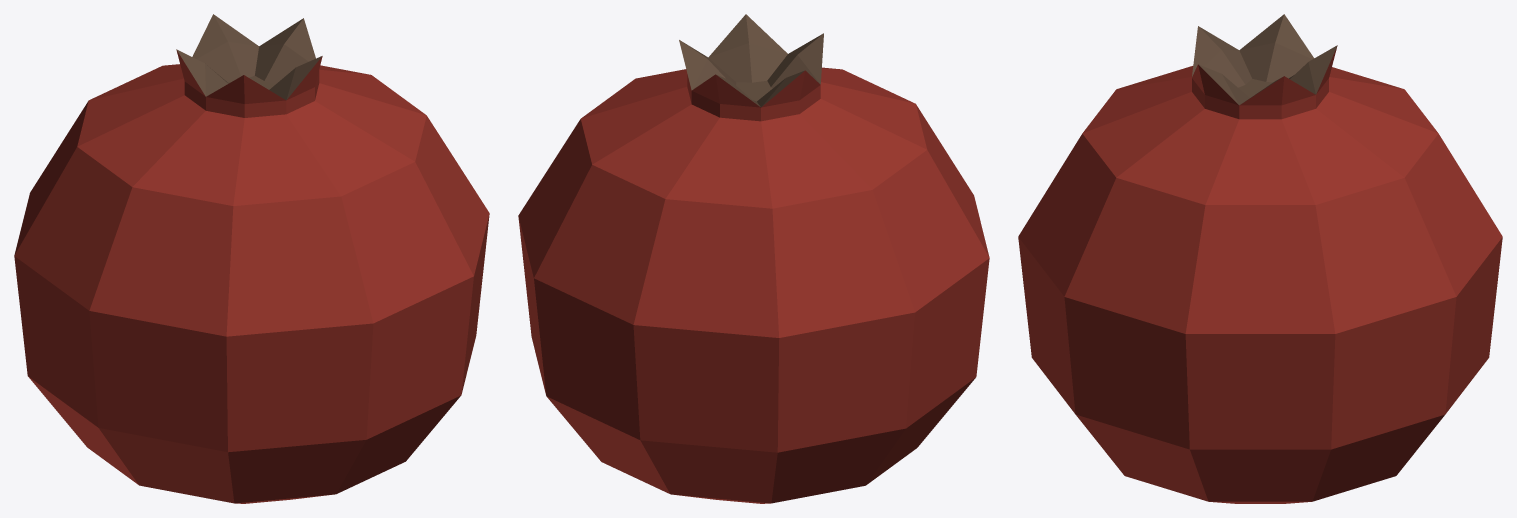
File: SM_Envr_Nature_Farm_Fruit_Pomegranate.fbx
3 renders of one model, left to right at view 1: azimuth 30°, elevation 25°; view 2: azimuth 150°, elevation 25°; view 3: azimuth 270°, elevation 25°, orthographic.
Visible parts, largest first — view 1: SM_Envr_Nature_Farm_Fruit_Pomegranate; view 2: SM_Envr_Nature_Farm_Fruit_Pomegranate; view 3: SM_Envr_Nature_Farm_Fruit_Pomegranate.
Boxes of the visible parts, bbox=[...] form: SM_Envr_Nature_Farm_Fruit_Pomegranate: bbox=[14, 14, 489, 503]; SM_Envr_Nature_Farm_Fruit_Pomegranate: bbox=[518, 14, 989, 503]; SM_Envr_Nature_Farm_Fruit_Pomegranate: bbox=[1018, 14, 1502, 503].
Bounding box in the file's own units: 15.07 × 15.79 × 15.85.
